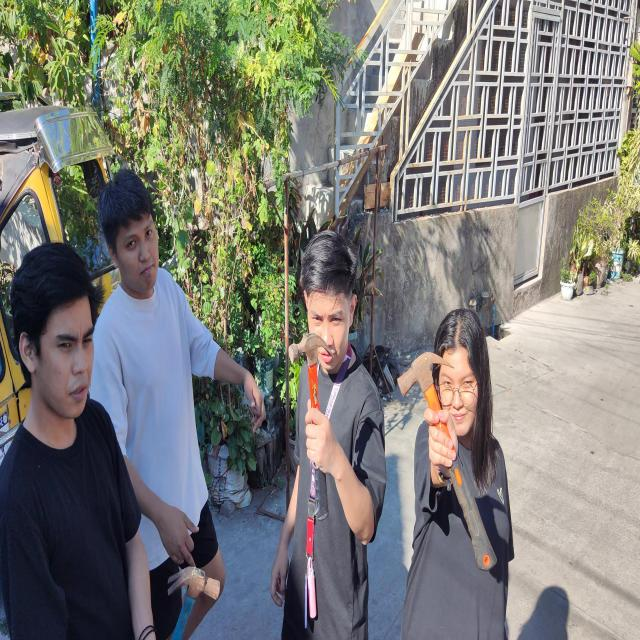hammer: (398, 351, 497, 571), (289, 334, 334, 522), (168, 566, 220, 640)
